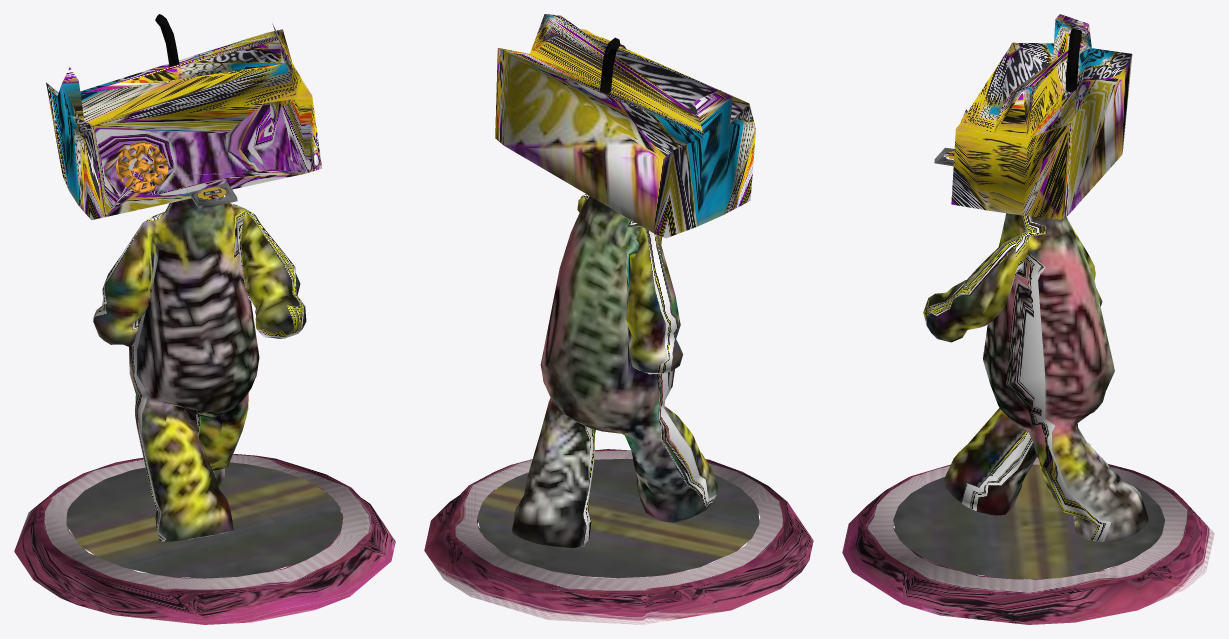
The picture shows the model from 3 angles, left to right: view 1: azimuth 30°, elevation 25°; view 2: azimuth 150°, elevation 25°; view 3: azimuth 270°, elevation 25°; orthographic projection. The views are drawn at different scales.
Size of the model in its own units: 1.45 by 2.17 by 1.44.
Materials: 10 (6 with a texture image).
